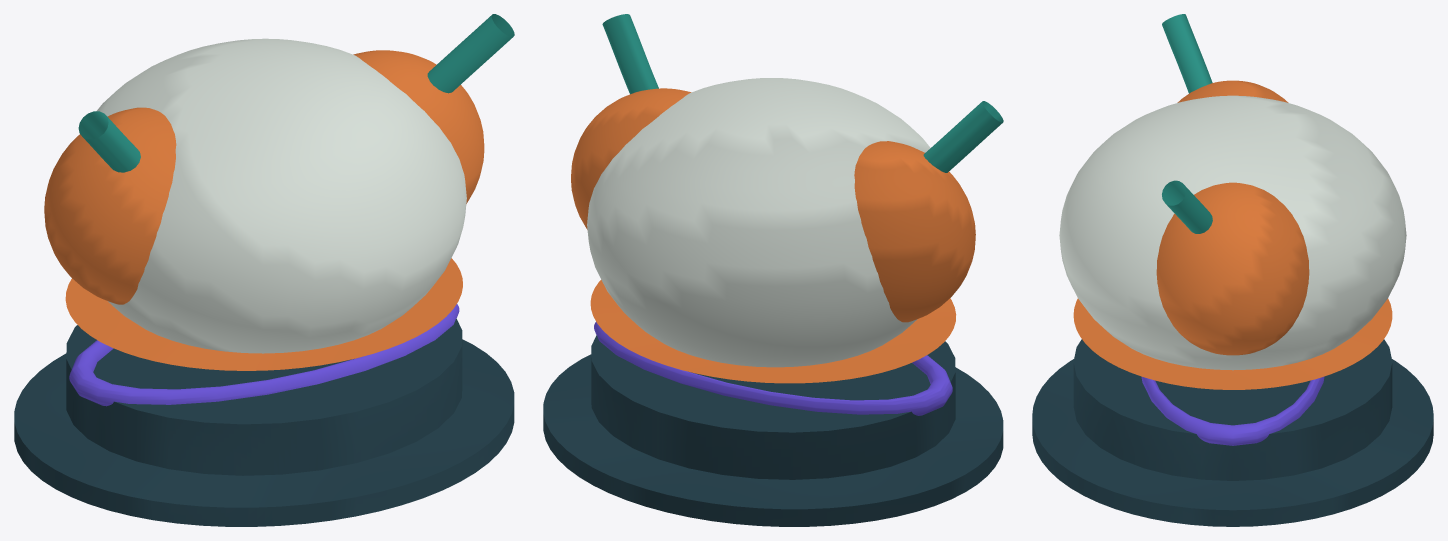
File: 0662_史前人类图鉴_猛犸骨小屋.glb
3 renders of one model, left to right at view 1: azimuth 30°, elevation 25°; view 2: azimuth 150°, elevation 25°; view 3: azimuth 270°, elevation 25°, orthographic. The views are drawn at different scales.
Parts seen in each view (by area): view 1: card_0662; view 2: card_0662; view 3: card_0662.
Part boxes in pixels (bbox=[...]): card_0662: bbox=[14, 14, 514, 526]; card_0662: bbox=[543, 14, 1003, 526]; card_0662: bbox=[1032, 14, 1433, 526].
Size of the model in its own units: 1.2 by 1 by 1.09.
